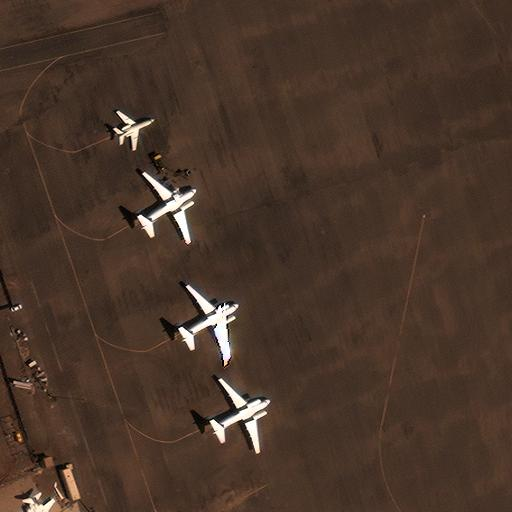Medium Civil Transport: (117, 109, 154, 150), (19, 496, 55, 512)
Military Transport: (211, 377, 270, 452), (181, 284, 238, 357), (140, 171, 196, 242)
